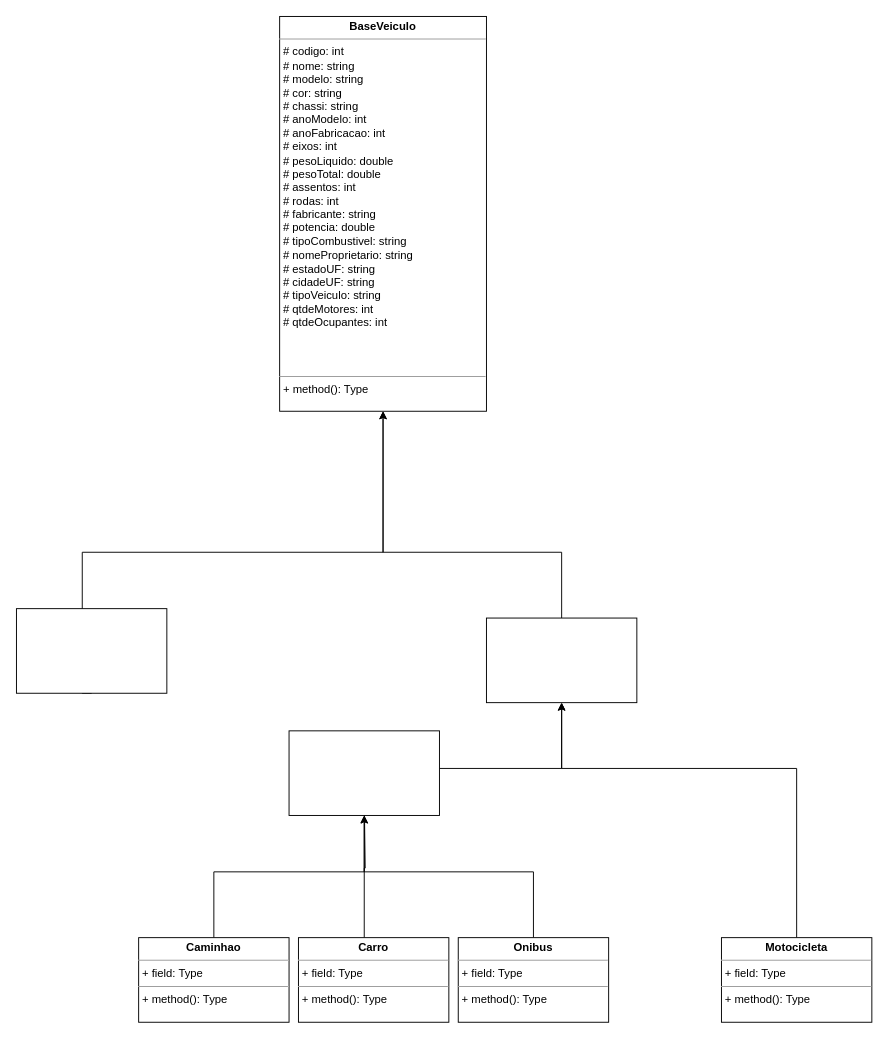
The diagram is 888 pixels wide and 1039 high, and some of its shapes have lost their labels. The shapes that lost their labels are listed below. From the top down, each one's box as (x1, y1, x2, y2) in pixels, then its label:
(16, 608, 167, 693): Aviao - portaPresurizada: int + method(): Type
(486, 617, 637, 703): BaseDadosComuns # codigoRenavam: string # placa + method(): Type
(288, 730, 439, 815): BasePorta # portas: int + method(): Type
